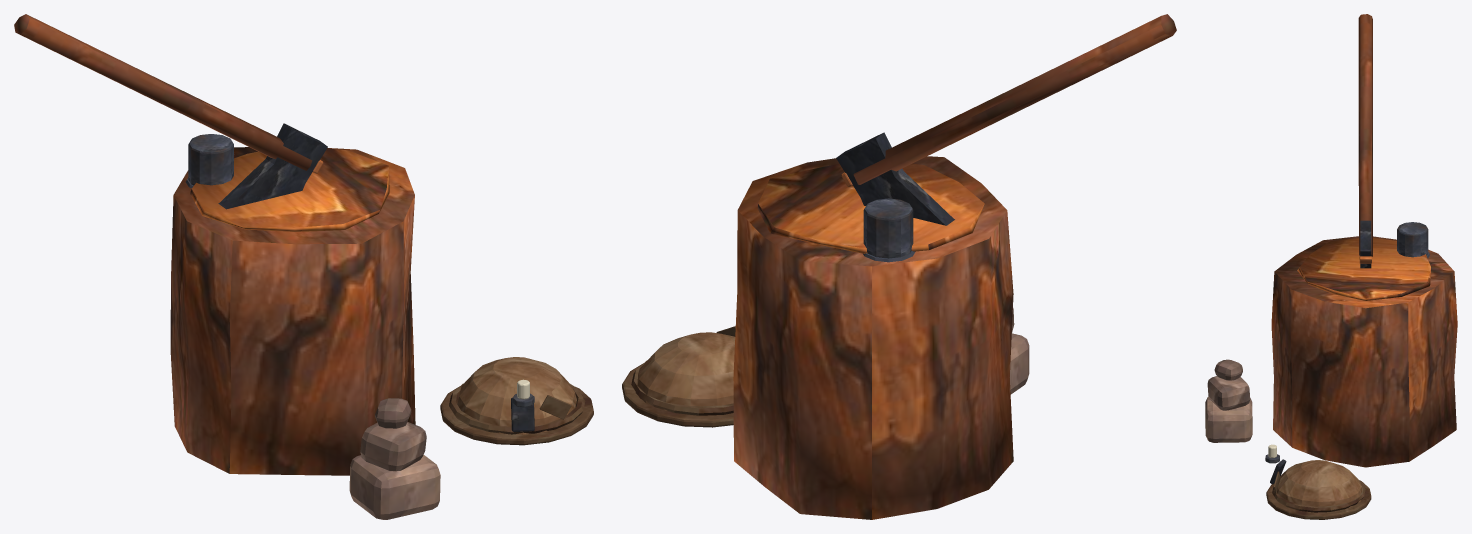
The model's file is op_hat_on_pick.glb.
3 views of the same model, side by side, from view 1: azimuth 30°, elevation 25°; view 2: azimuth 150°, elevation 25°; view 3: azimuth 270°, elevation 25° (orthographic). The views are drawn at different scales.
Parts seen in each view (by area): view 1: model; view 2: model; view 3: model.
Boxes of the visible parts, bbox=[...] form: model: bbox=[14, 14, 593, 519]; model: bbox=[622, 14, 1176, 519]; model: bbox=[1205, 14, 1457, 519].
Size of the model in its own units: 1.08 by 0.9371 by 0.6455.
Materials: 11 (10 with a texture image).
